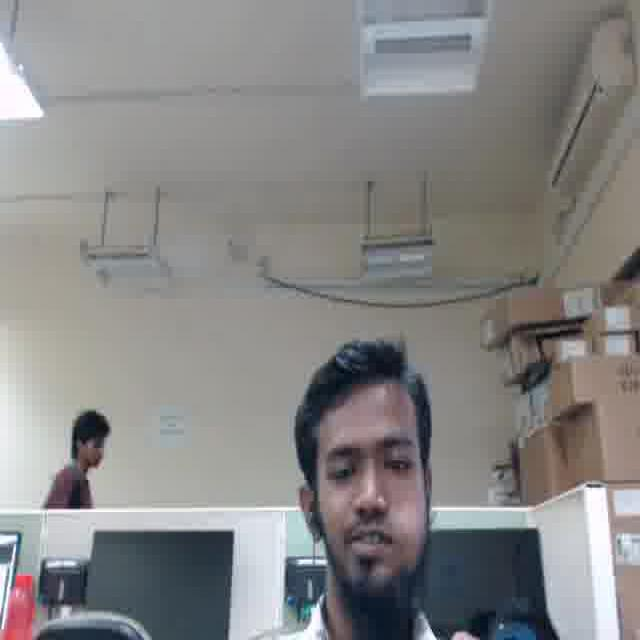Engaged: (312, 396, 424, 584)
